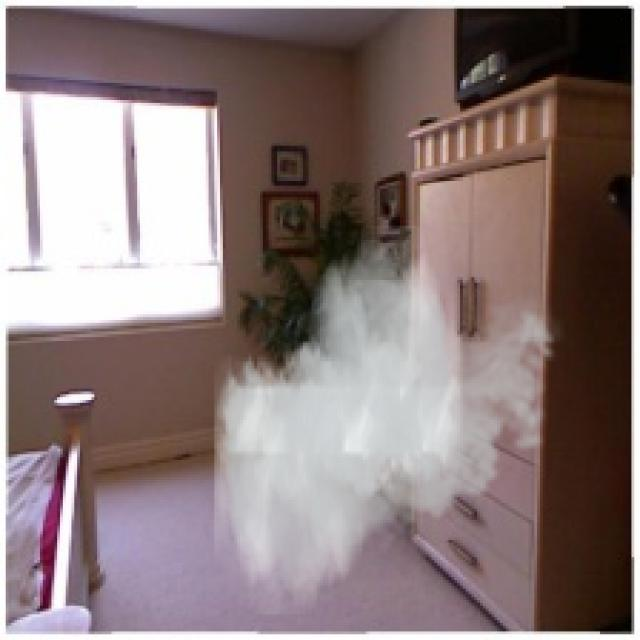smoke: (214, 226, 566, 614)
